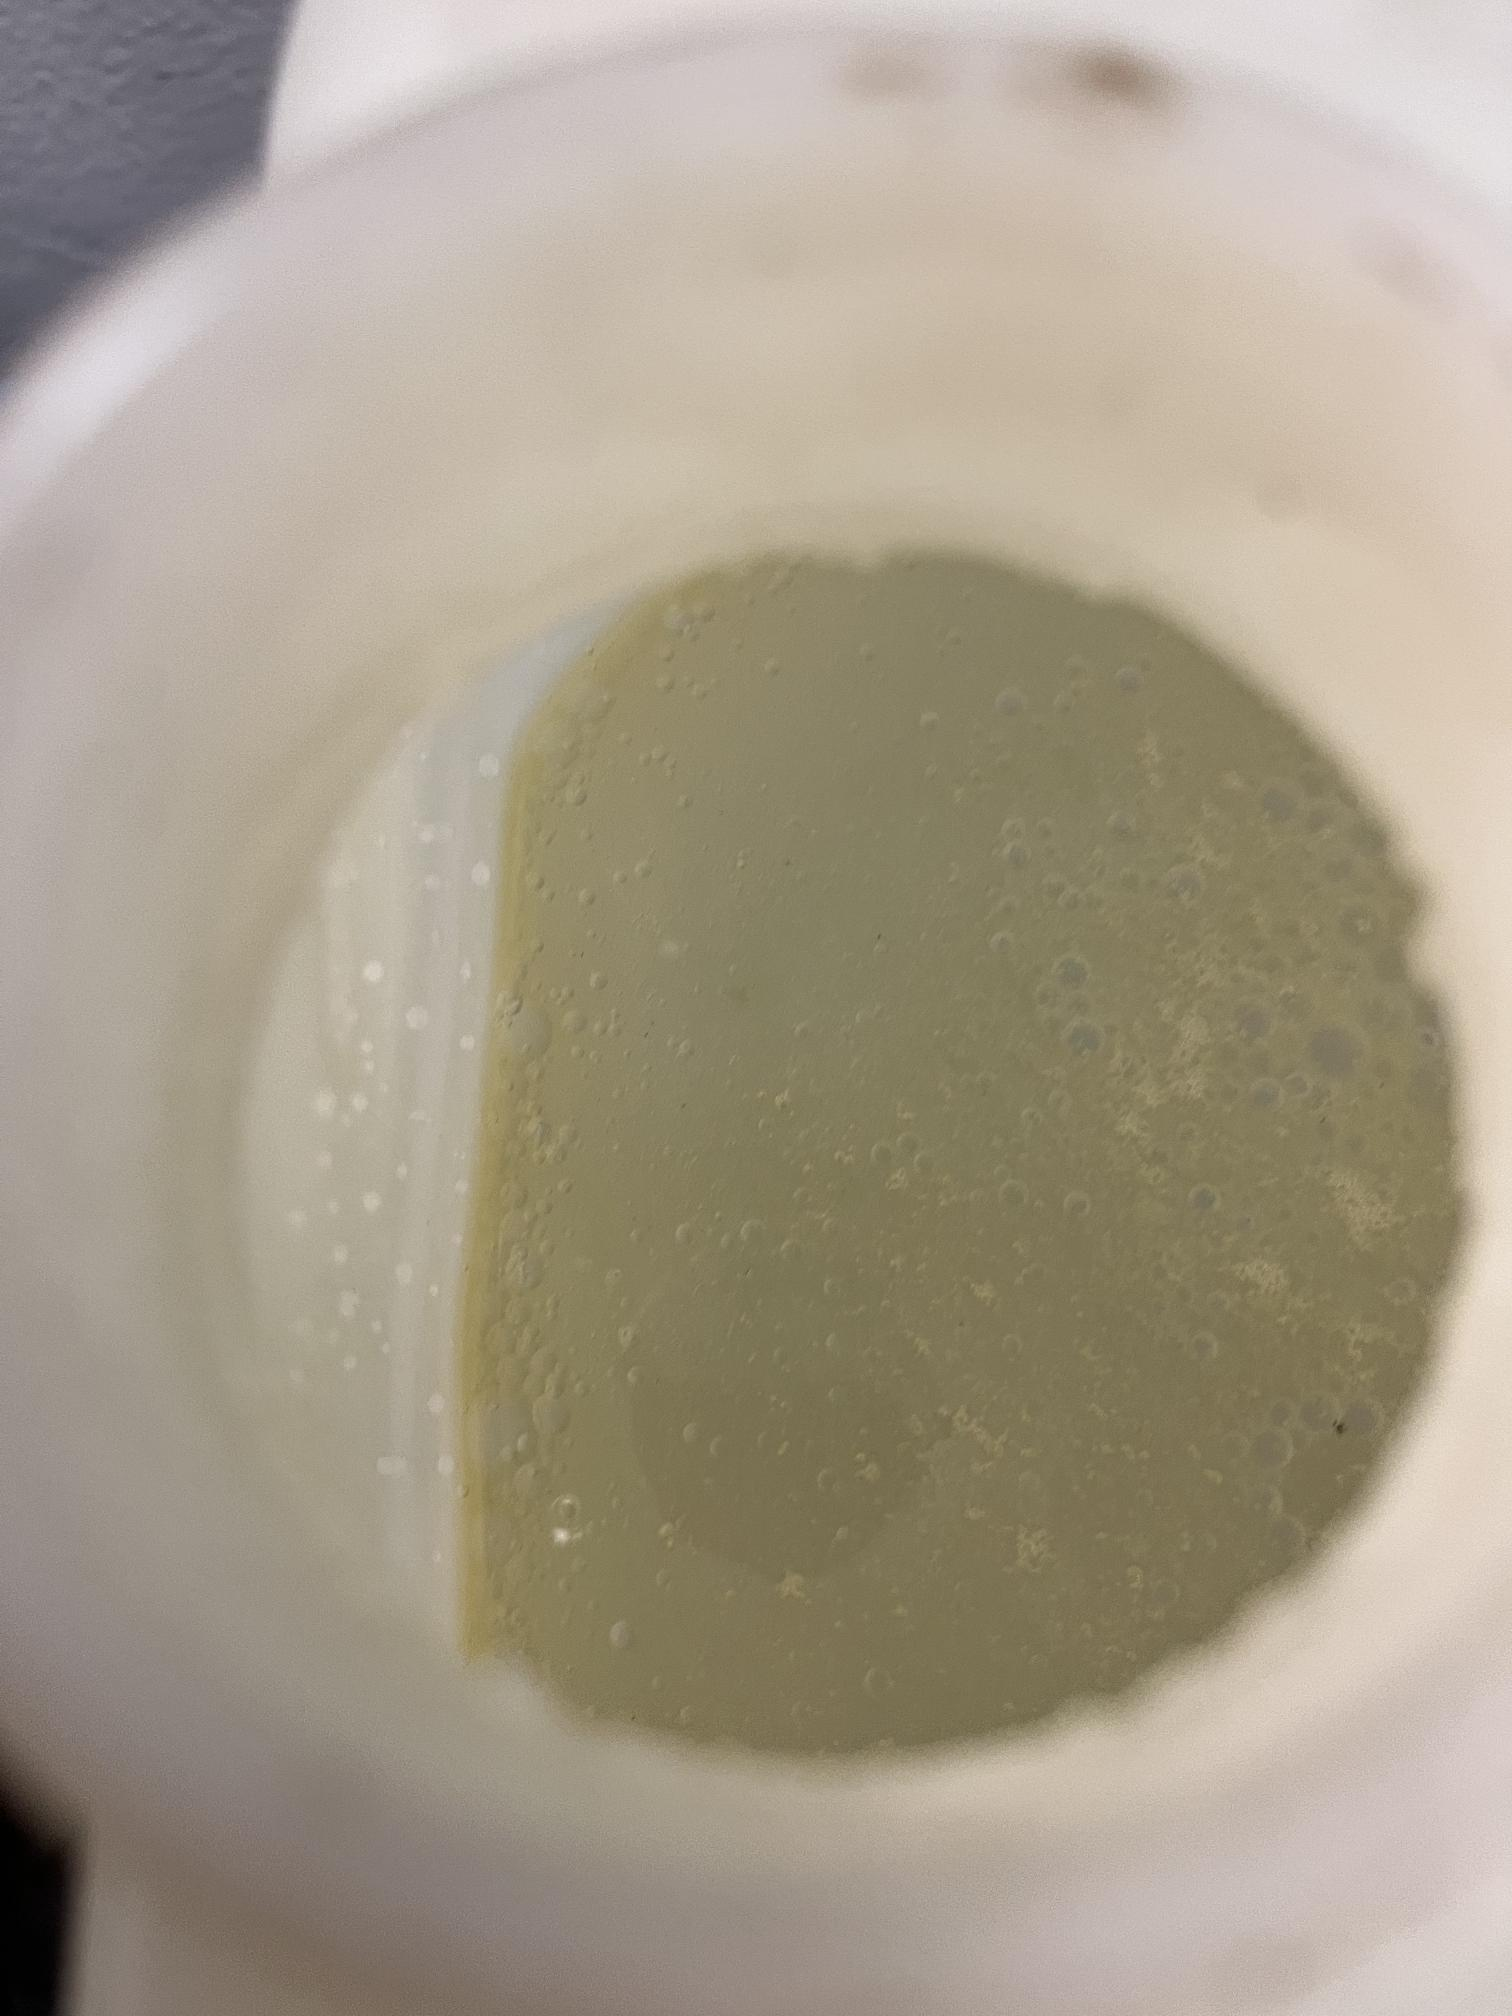Presenca de Oleo - - 200ml: (284, 500, 1441, 1960)
